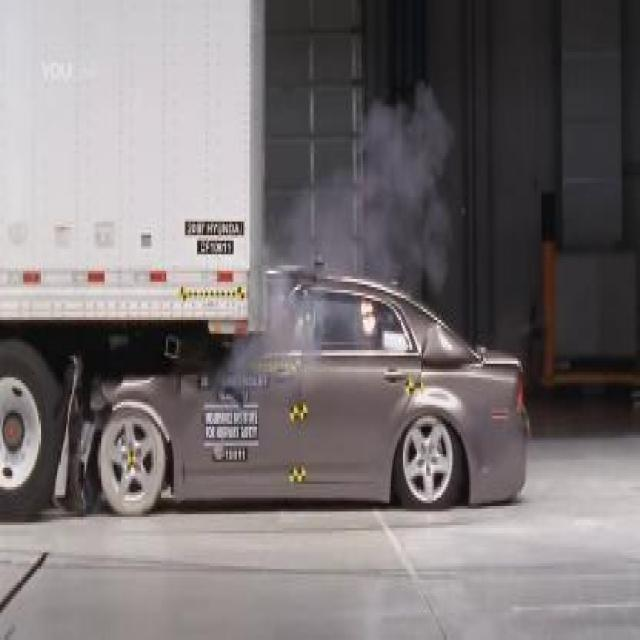accident: (2, 6, 536, 534)
